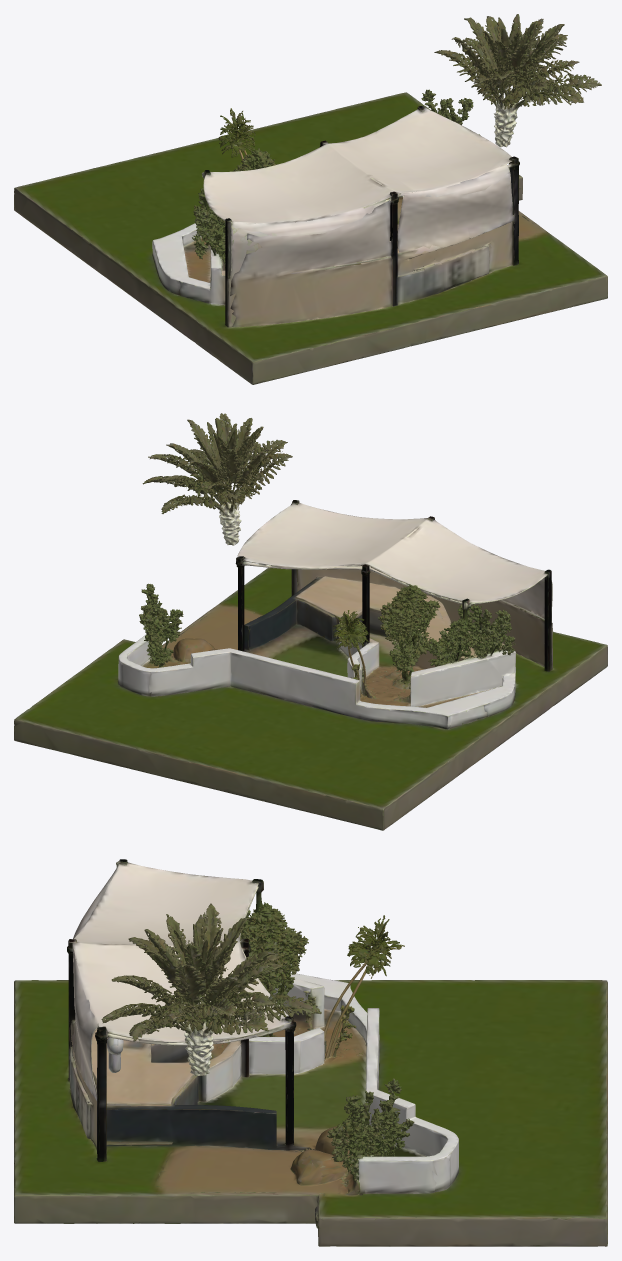
File: la-plage-beach-1.glb
3 views of the same model, one above another, from view 1: azimuth 30°, elevation 25°; view 2: azimuth 150°, elevation 25°; view 3: azimuth 270°, elevation 25° (orthographic). The views are drawn at different scales.
Bounding box in the file's own units: 0.9735 × 0.5264 × 1.
1 material, 1 textured.
